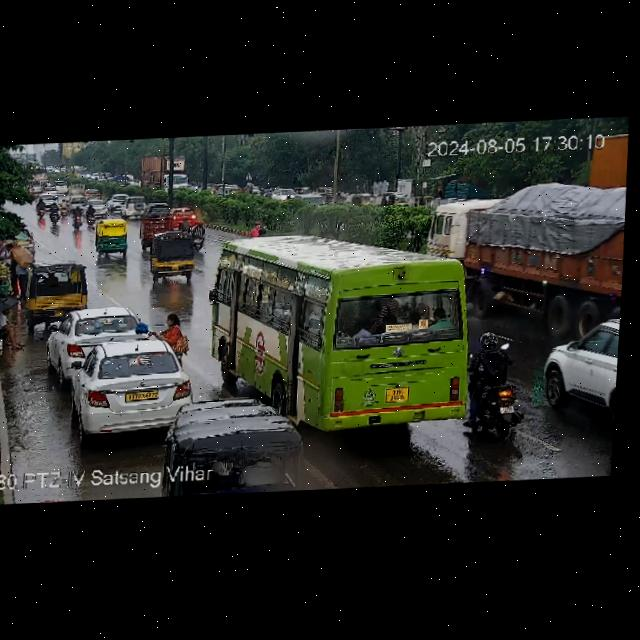bus: (196, 224, 478, 437)
car: (52, 334, 197, 438), (538, 315, 620, 447), (44, 304, 152, 382), (149, 230, 198, 280), (94, 218, 131, 255), (139, 215, 170, 246), (373, 189, 420, 208), (351, 188, 375, 206), (144, 203, 171, 218)
motorcycle: (459, 322, 524, 451), (32, 191, 99, 233), (172, 217, 207, 249), (248, 221, 264, 237)
person: (0, 284, 25, 354), (154, 311, 193, 353), (0, 235, 24, 295)
truck: (424, 189, 628, 335), (22, 260, 91, 332)
